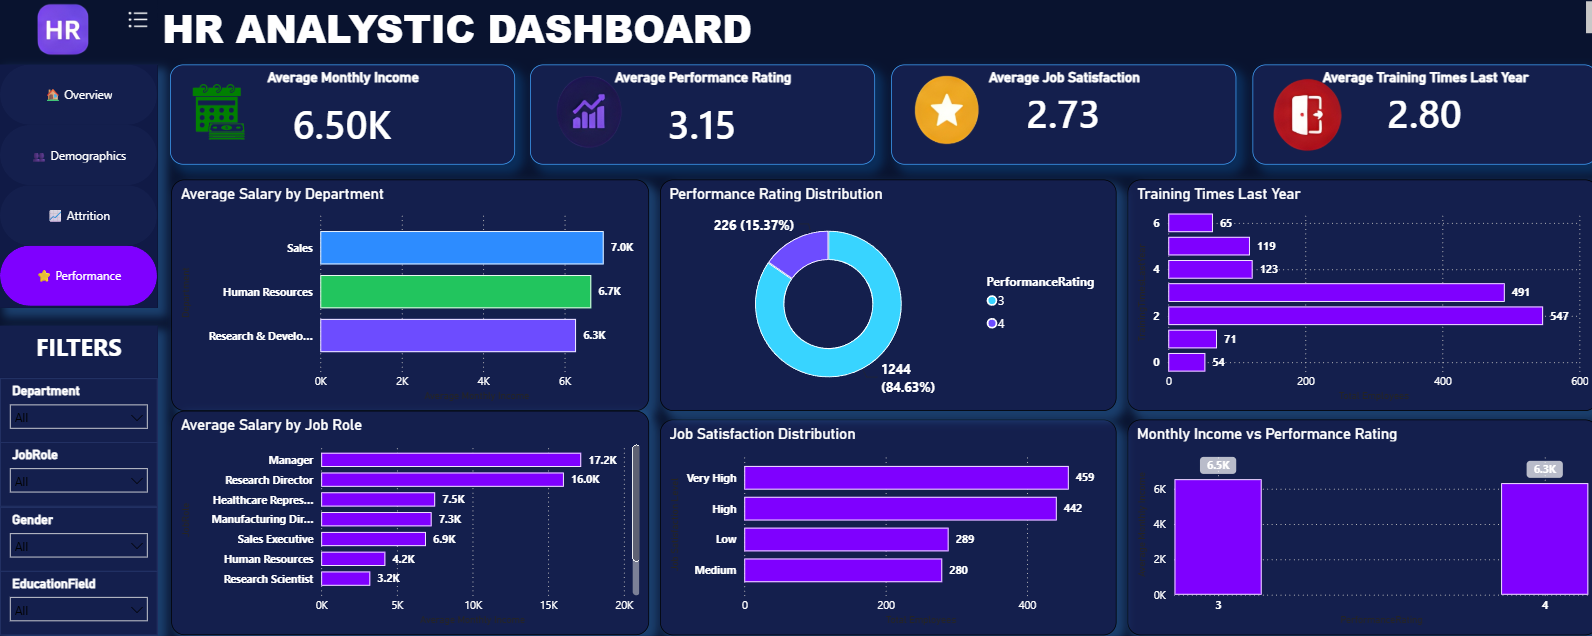

What the dashboard file says about the page in this screenshot:
{"tool":"powerbi","page":{"name":"⭐ Performance","canvas":[1800,720],"ordinal":3},"visuals":[{"type":"shape","box":[0,75.8,177.4,274.2],"z":0},{"type":"textbox","box":[177.6,0,1622.4,56.7],"z":1000},{"type":"cardVisual","title":"Average Monthly Income","fields":{"Data":["HR_Cleaned.Average Monthly Income"]},"box":[191.9,75.8,388.7,112.9],"z":2000},{"type":"cardVisual","title":"Average Performance Rating","fields":{"Data":["HR_Cleaned.Average Performance Rating"]},"box":[596.8,75.8,388.7,112.9],"z":3000},{"type":"cardVisual","title":"Average Job Satisfaction","fields":{"Data":["HR_Cleaned.Average Job Satisfaction"]},"box":[1004.8,75.8,388.7,112.9],"z":4000},{"type":"cardVisual","title":"Average Training Times Last Year","fields":{"Data":["HR_Cleaned.Average Training Times"]},"box":[1411.3,75.8,388.7,112.9],"z":5000},{"type":"shape","box":[0,371,177.4,348.4],"z":6000},{"type":"clusteredBarChart","title":"Average Salary by Department","fields":{"Category":["HR_Cleaned.Department"],"Y":["HR_Cleaned.Average Monthly Income"]},"box":[193,205,538,261],"z":7000},{"type":"clusteredBarChart","title":"Average Salary by Job Role","fields":{"Category":["HR_Cleaned.JobRole"],"Y":["HR_Cleaned.Average Monthly Income"]},"box":[192.5,466.2,538.8,252.5],"z":8000},{"type":"clusteredBarChart","title":"Training Times Last Year","fields":{"Y":["HR_Cleaned.Total Employees"],"Category":["HR_Cleaned.TrainingTimesLastYear"]},"box":[1270,205,530,261],"z":9000},{"type":"lineClusteredColumnComboChart","title":"Monthly Income vs Performance Rating","fields":{"Y":["HR_Cleaned.Average Monthly Income"],"Category":["HR_Cleaned.PerformanceRating"]},"box":[1270,476,530,243],"z":10000},{"type":"clusteredBarChart","title":"Job Satisfaction Distribution","fields":{"Y":["HR_Cleaned.Total Employees"],"Category":["HR_Cleaned.Job Satisfaction Level"]},"box":[744,476,514,243],"z":11000},{"type":"donutChart","title":"Performance Rating Distribution","fields":{"Category":["HR_Cleaned.PerformanceRating"],"Y":["HR_Cleaned.Total Employees"]},"box":[744,205,514,261],"z":12000},{"type":"slicer","fields":{"Values":["HR_Cleaned.EducationField"]},"box":[0,646.8,177.4,72.6],"z":13000},{"type":"slicer","fields":{"Values":["HR_Cleaned.Department"]},"box":[0,429,177.4,72.6],"z":14000},{"type":"slicer","fields":{"Values":["HR_Cleaned.JobRole"]},"box":[0,501.6,177.4,72.6],"z":15000},{"type":"slicer","fields":{"Values":["HR_Cleaned.Gender"]},"box":[0,574.2,177.4,72.6],"z":16000},{"type":"textbox","box":[0,371,177.4,58.1],"z":17000},{"type":"image","box":[0,0,193.2,75.7],"z":18000},{"type":"image","box":[164.8,64.8,163,133.3],"z":19000},{"type":"image","box":[1394.4,64.8,163,133.3],"z":20000},{"type":"image","box":[985.2,64.8,163,133.3],"z":21000},{"type":"image","box":[581.5,64.8,163,133.3],"z":22000},{"type":"pageNavigator","box":[0,76.2,177.5,273.8],"z":23000}]}

Visuals, with their boxes on the page's 1800x720 design canvas (x1, y1, x2, y2). These are canvas units, not pixel positions in the 1592x636 screenshot, which may show the page scaled, cropped or inside an application window:
shape: left=0, top=76, right=177, bottom=350
textbox: left=178, top=0, right=1800, bottom=57
"Average Monthly Income" cardVisual: left=192, top=76, right=581, bottom=189
"Average Performance Rating" cardVisual: left=597, top=76, right=986, bottom=189
"Average Job Satisfaction" cardVisual: left=1005, top=76, right=1394, bottom=189
"Average Training Times Last Year" cardVisual: left=1411, top=76, right=1800, bottom=189
shape: left=0, top=371, right=177, bottom=719
"Average Salary by Department" clusteredBarChart: left=193, top=205, right=731, bottom=466
"Average Salary by Job Role" clusteredBarChart: left=192, top=466, right=731, bottom=719
"Training Times Last Year" clusteredBarChart: left=1270, top=205, right=1800, bottom=466
"Monthly Income vs Performance Rating" lineClusteredColumnComboChart: left=1270, top=476, right=1800, bottom=719
"Job Satisfaction Distribution" clusteredBarChart: left=744, top=476, right=1258, bottom=719
"Performance Rating Distribution" donutChart: left=744, top=205, right=1258, bottom=466
slicer - HR_Cleaned.EducationField: left=0, top=647, right=177, bottom=719
slicer - HR_Cleaned.Department: left=0, top=429, right=177, bottom=502
slicer - HR_Cleaned.JobRole: left=0, top=502, right=177, bottom=574
slicer - HR_Cleaned.Gender: left=0, top=574, right=177, bottom=647
textbox: left=0, top=371, right=177, bottom=429
image: left=0, top=0, right=193, bottom=76
image: left=165, top=65, right=328, bottom=198
image: left=1394, top=65, right=1557, bottom=198
image: left=985, top=65, right=1148, bottom=198
image: left=582, top=65, right=744, bottom=198
pageNavigator: left=0, top=76, right=178, bottom=350
